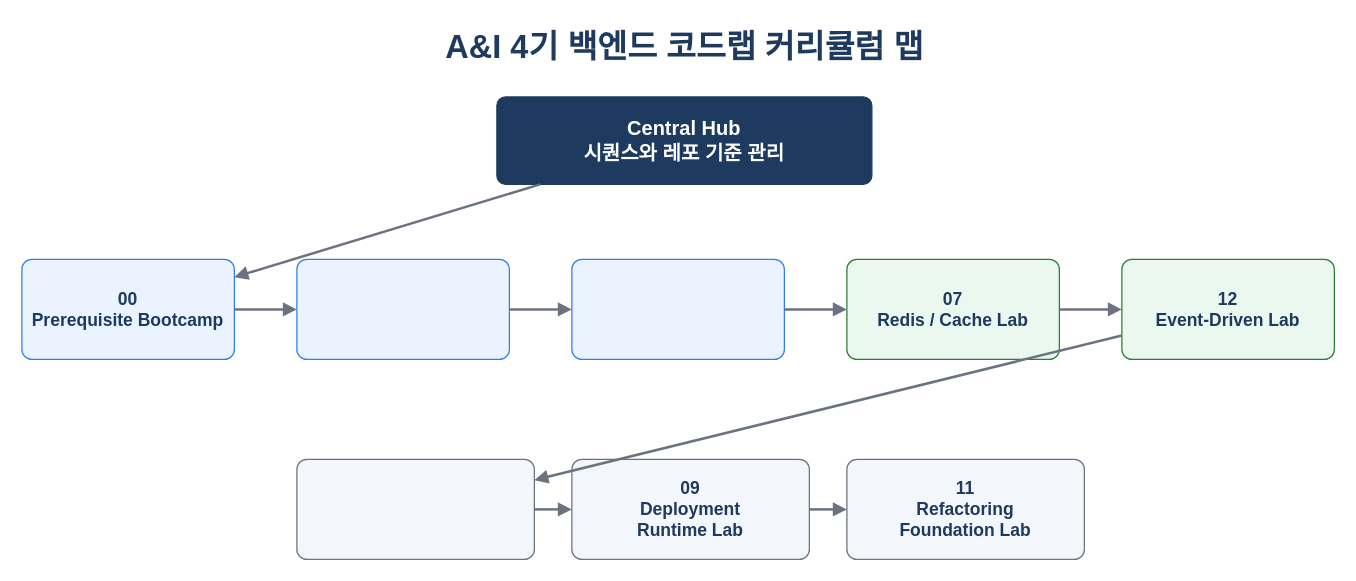
The diagram is 1356 pixels wide and 581 high, and some of its shapes have lost their labels. Each missing label, with the centre of its shape:
"01 REST CRUD Lab" belongs at point 402,308.
"02 DB Access Lab" belongs at point 677,308.
"08 Realtime Communication Lab" belongs at point 415,508.
